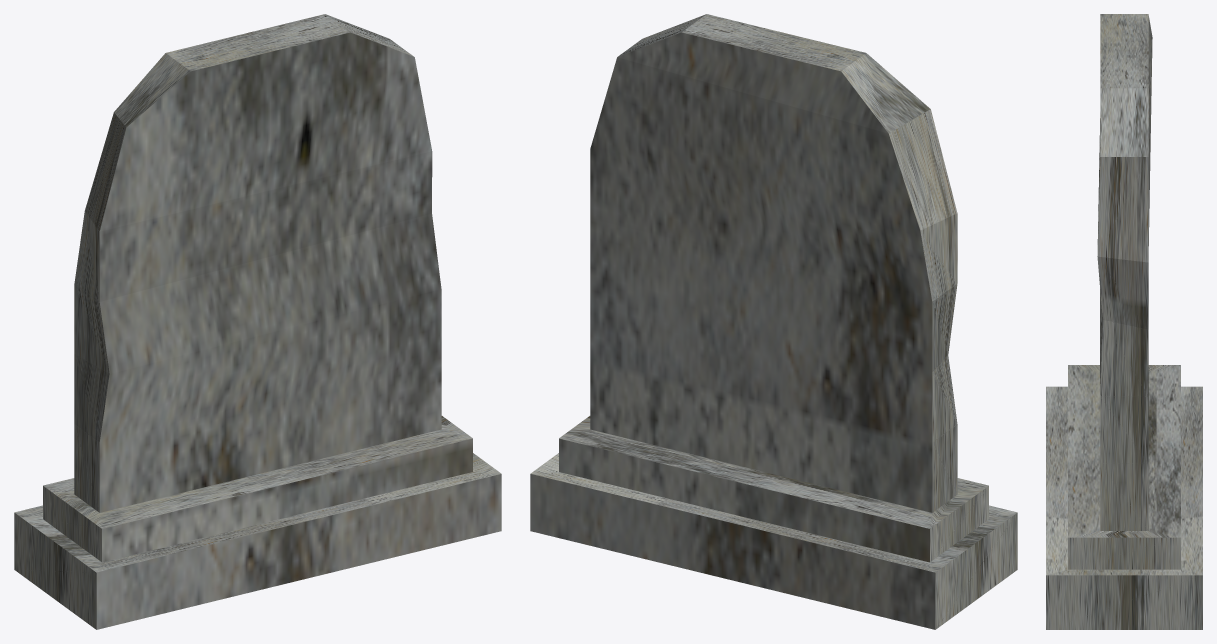
Rendered from Tombstone1.fbx.
3 views of the same model, side by side, from view 1: azimuth 30°, elevation 25°; view 2: azimuth 150°, elevation 25°; view 3: azimuth 270°, elevation 25° (orthographic). The views are drawn at different scales.
Parts seen in each view (by area): view 1: Cube.146; view 2: Cube.146; view 3: Cube.146.
Part boxes in pixels (bbox=[...]): Cube.146: bbox=[14, 14, 501, 629]; Cube.146: bbox=[530, 14, 1017, 629]; Cube.146: bbox=[1046, 14, 1202, 629].
Size of the model in its own units: 164 by 196 by 57.55.
